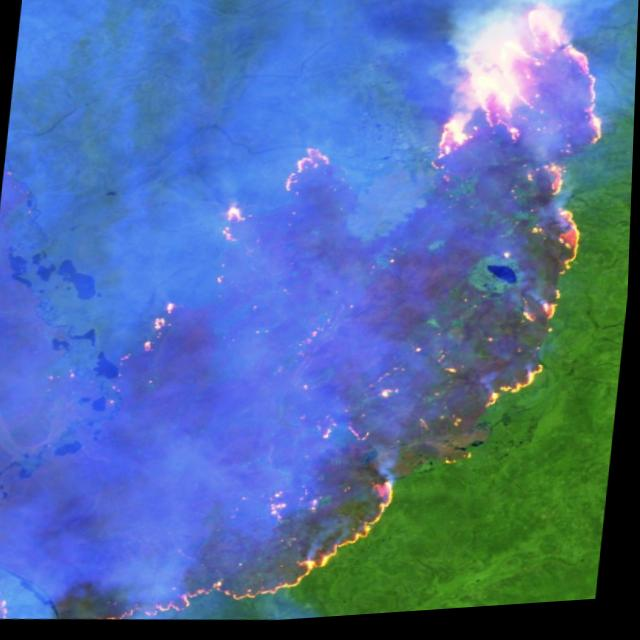fire: (55, 0, 640, 636)
